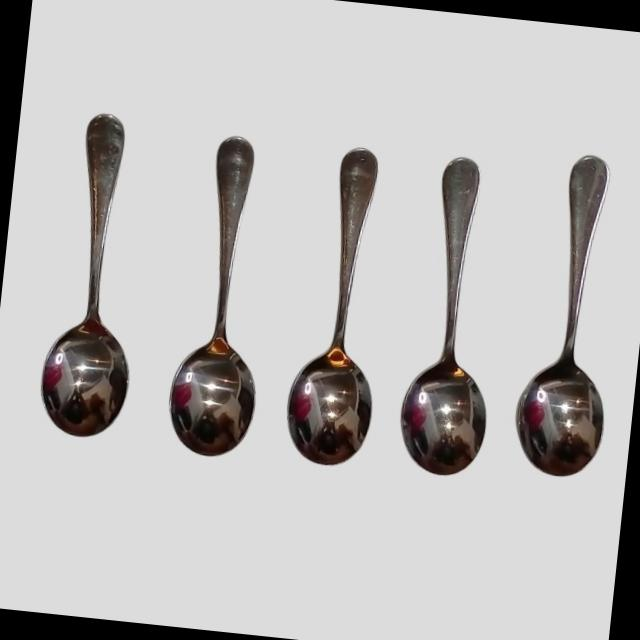spoon: (143, 108, 301, 490)
